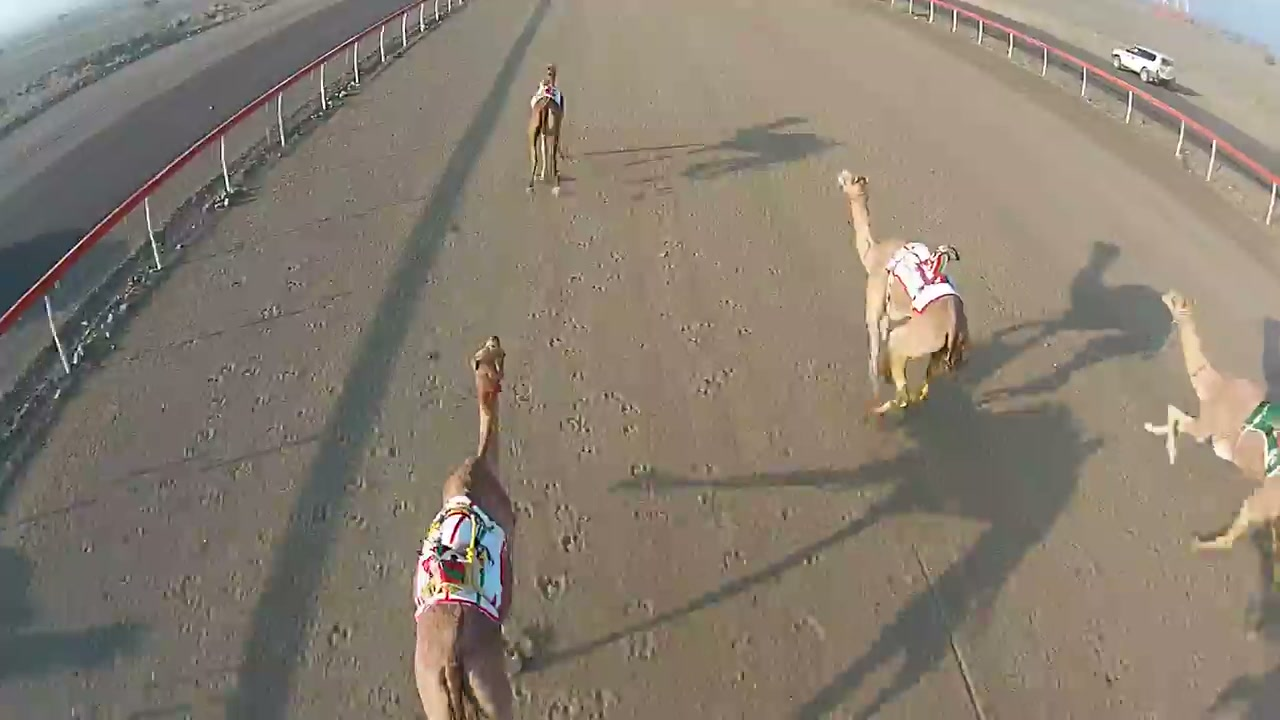animal_footprint: (504, 191, 679, 708), (215, 295, 378, 678)
